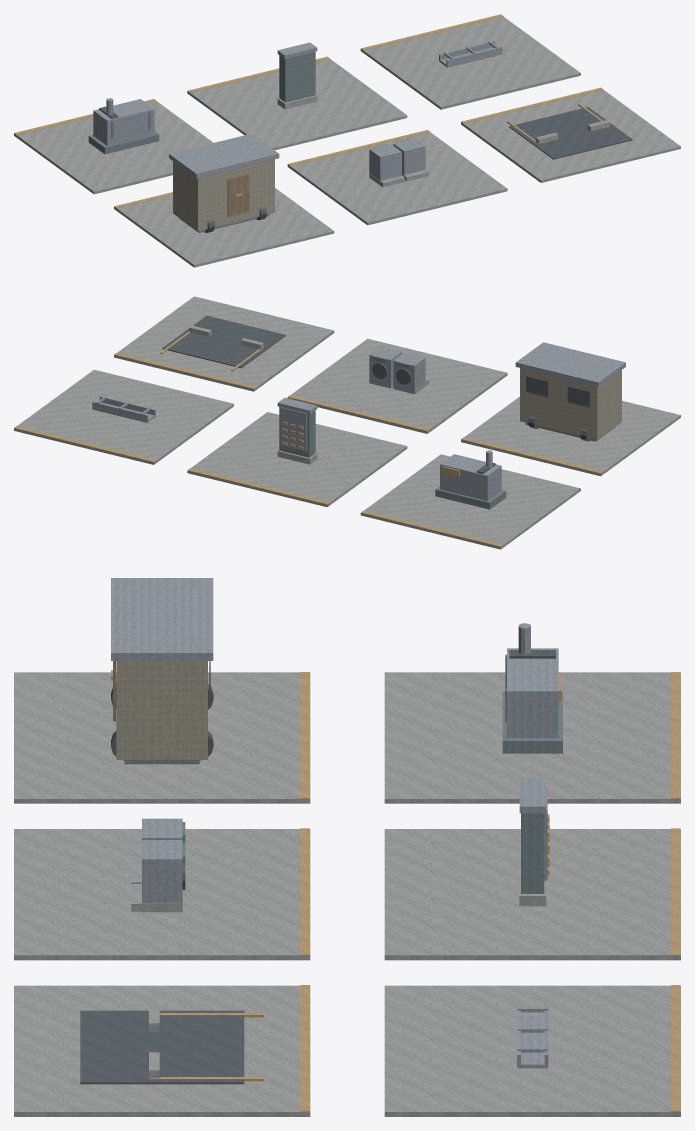
File: level_blockout_kit_wld_16_p02.glb
3 renders of one model, top to bottom at view 1: azimuth 30°, elevation 25°; view 2: azimuth 150°, elevation 25°; view 3: azimuth 270°, elevation 25°, orthographic. The views are drawn at different scales.
Parts seen in each view (by area): view 1: level_blockout_kit_wld_16_p02; view 2: level_blockout_kit_wld_16_p02; view 3: level_blockout_kit_wld_16_p02.
Boxes of the visible parts, x1,y1,x2,y2 form: level_blockout_kit_wld_16_p02: (14,14,680,267); level_blockout_kit_wld_16_p02: (14,296,680,549); level_blockout_kit_wld_16_p02: (14,578,680,1116).
Bounding box in the file's own units: 19.65 × 2.6 × 12.6.
Materials: 7 (7 with a texture image).
